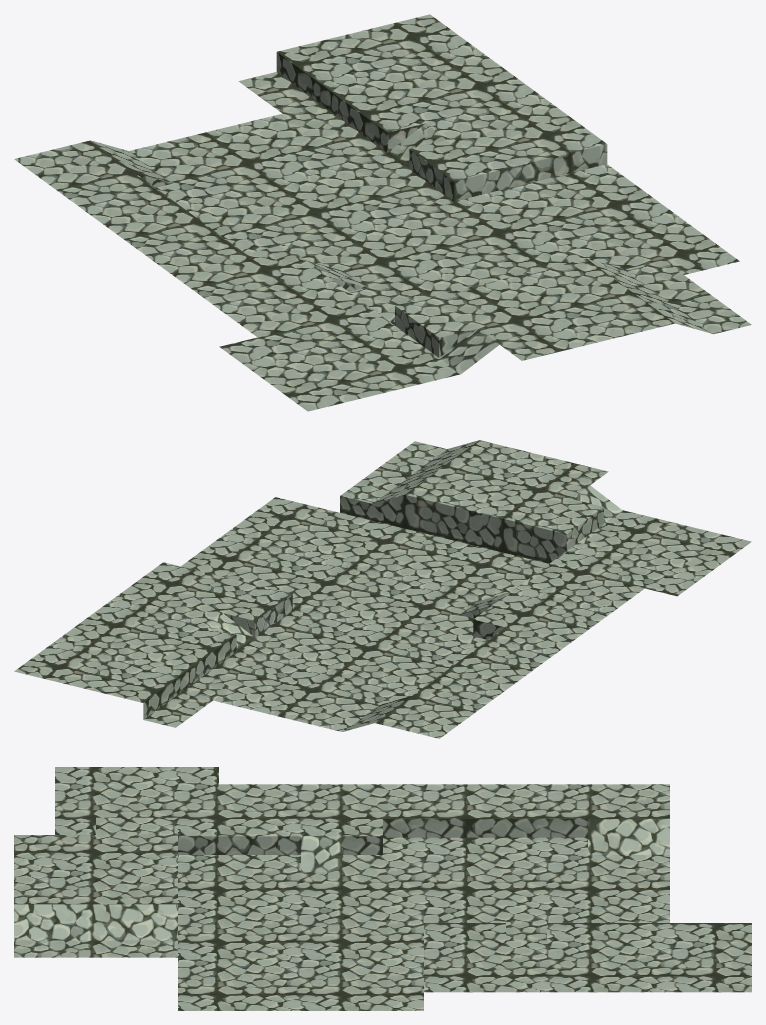
File: yuka_s03.fbx
3 views of the same model, one above another, from view 1: azimuth 30°, elevation 25°; view 2: azimuth 150°, elevation 25°; view 3: azimuth 270°, elevation 25° (orthographic). The views are drawn at different scales.
Visible parts, largest first — view 1: _pCube4; view 2: _pCube4; view 3: _pCube4.
Boxes of the visible parts, box(x1,y1,x2,y2) form: _pCube4: box(14, 14, 751, 411); _pCube4: box(14, 440, 751, 738); _pCube4: box(14, 767, 751, 1010).
Bounding box in the file's own units: 13 × 1 × 18.
